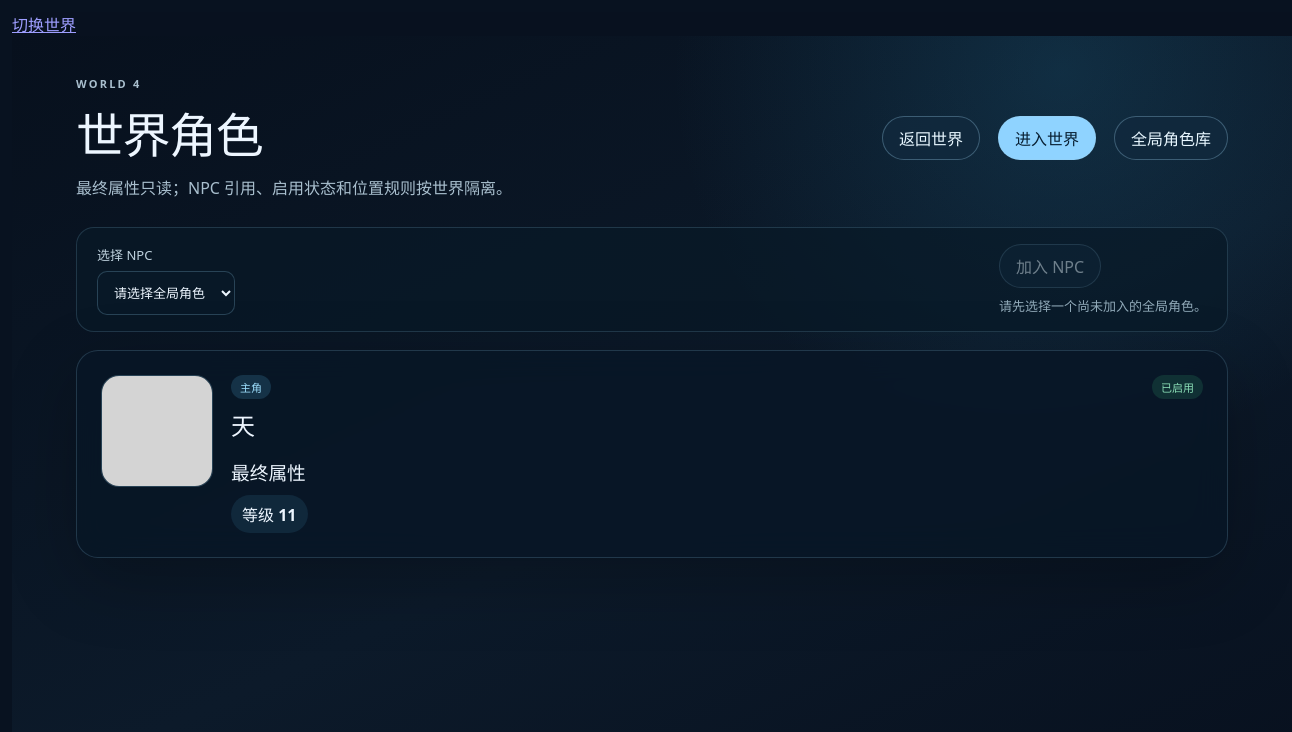
Test case: WorldRolesPage › ignores an old-world mutation response after the route changes
This screenshot has width=1292, height=732.
Select "安可儿" in the dropdown labelled "选择 NPC" at (166, 292), box [97,270,235,314]
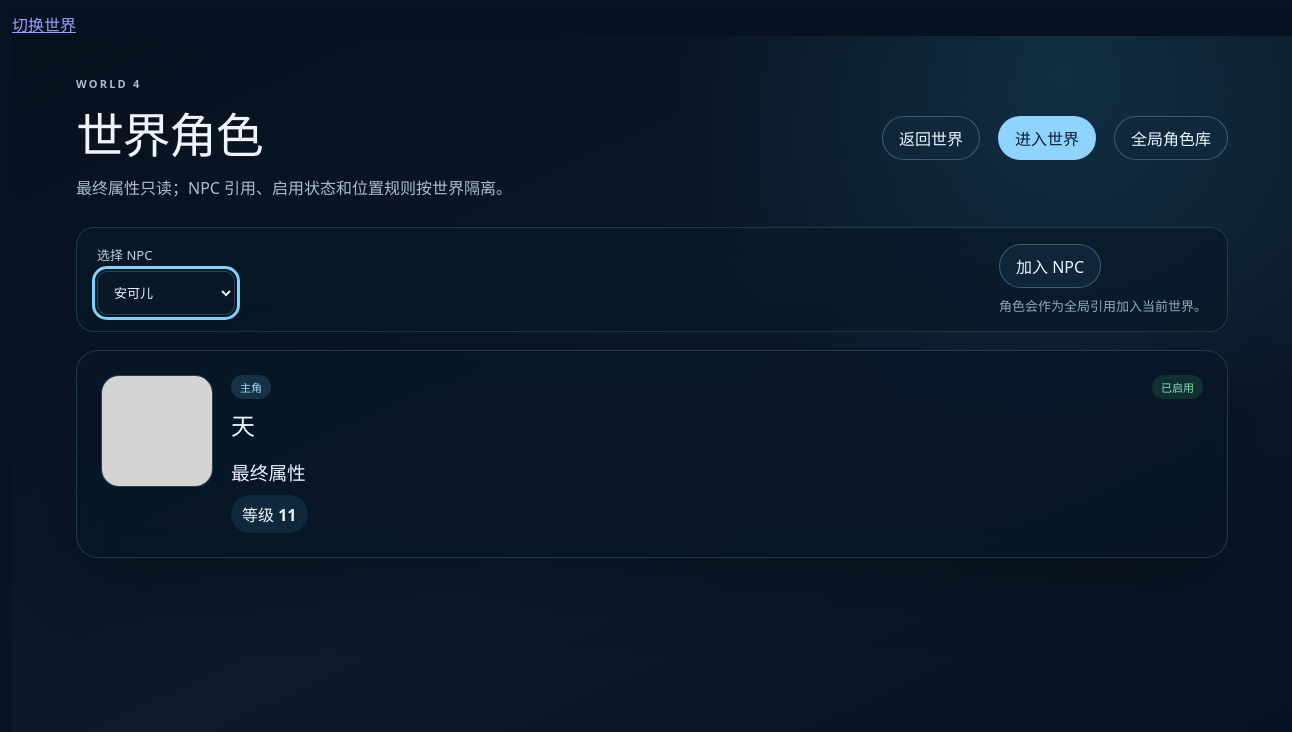
Click the button "加入 NPC".
click(1050, 266)  # box [999,244,1101,288]
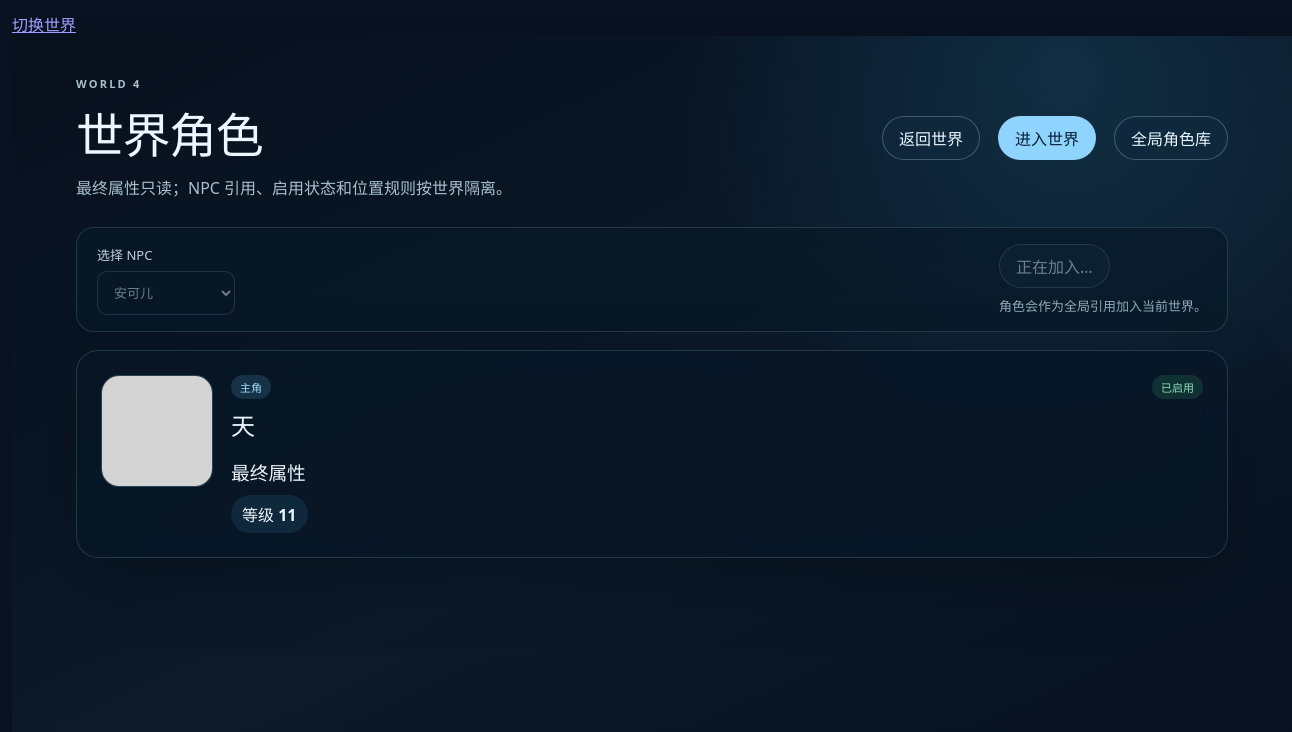
Click the link "切换世界".
click(44, 25)  # box [12,14,76,36]
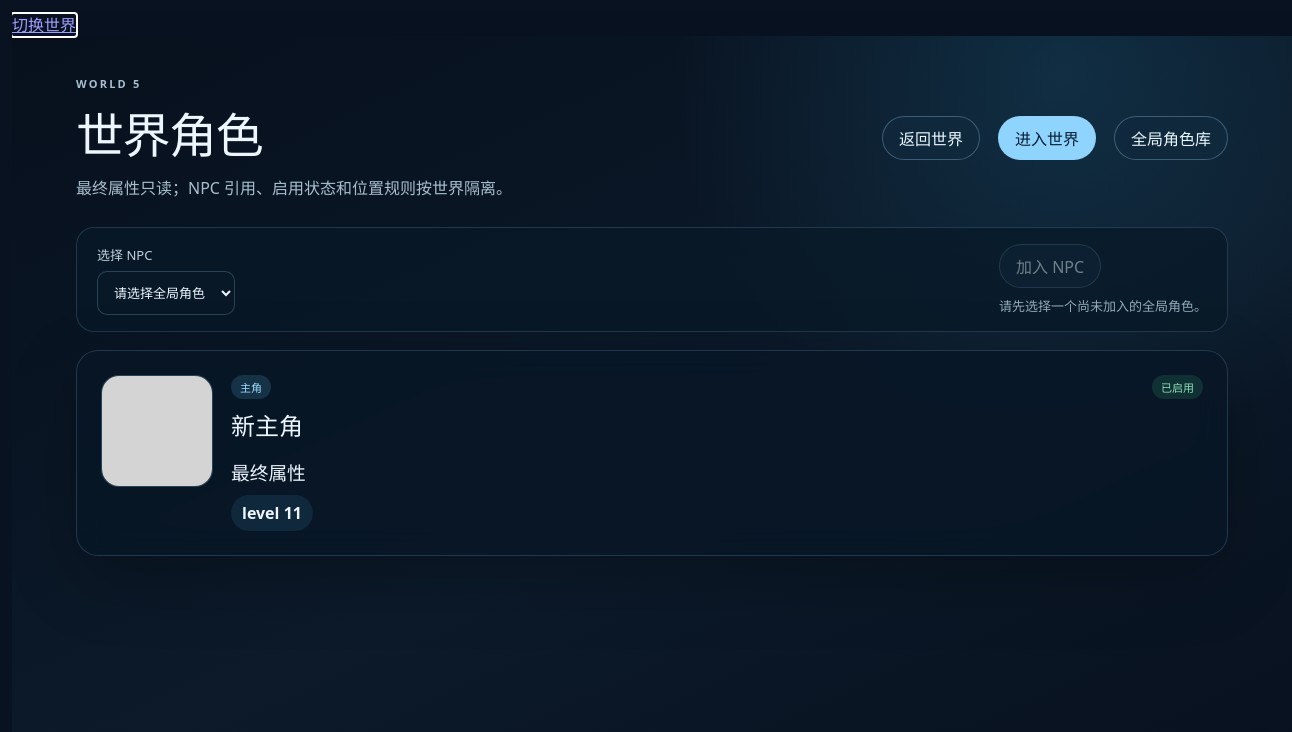
Expected: the heading "安可儿" is not shown
Result: the heading "新主角" is shown at [231,407,303,442]
